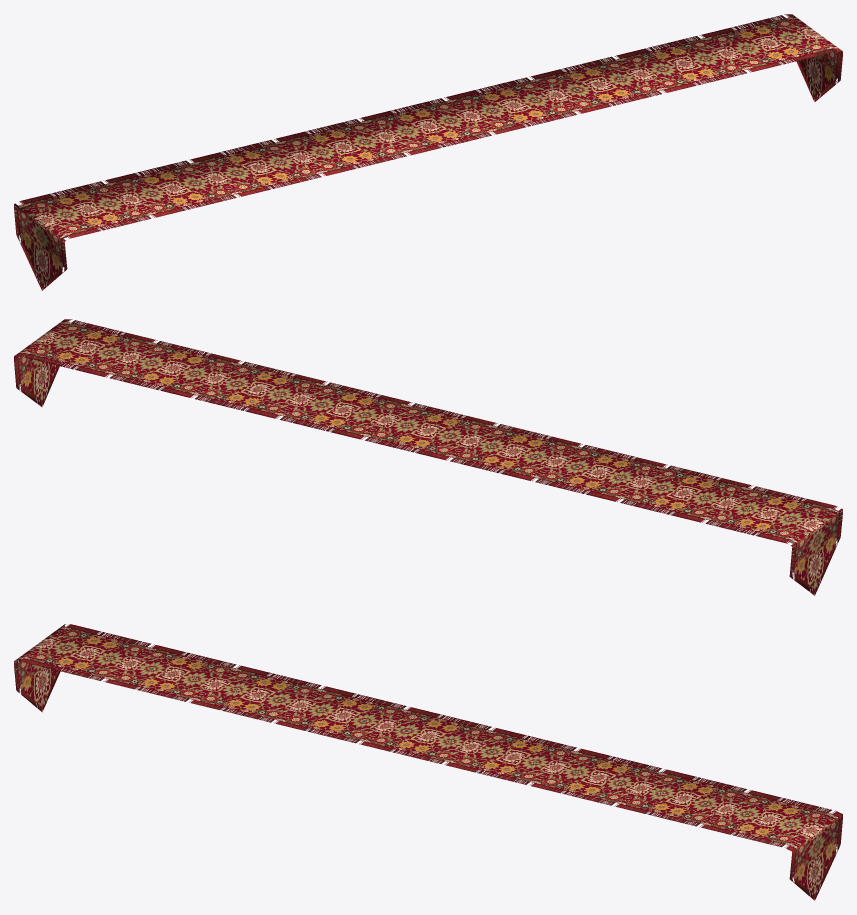
The model's file is cart.fbx.
3 views of the same model, one above another, from view 1: azimuth 30°, elevation 25°; view 2: azimuth 150°, elevation 25°; view 3: azimuth 330°, elevation 25° (orthographic).
Visible parts, largest first — view 1: runner.001_Cube.002_Material.013_0; view 2: runner.001_Cube.002_Material.013_0; view 3: runner.001_Cube.002_Material.013_0.
Boxes of the visible parts, x1=… form: runner.001_Cube.002_Material.013_0: x1=14, y1=14, x2=842, y2=290; runner.001_Cube.002_Material.013_0: x1=14, y1=319, x2=842, y2=595; runner.001_Cube.002_Material.013_0: x1=14, y1=624, x2=842, y2=900.
Size of the model in its own units: 784 by 67.91 by 88.36.
